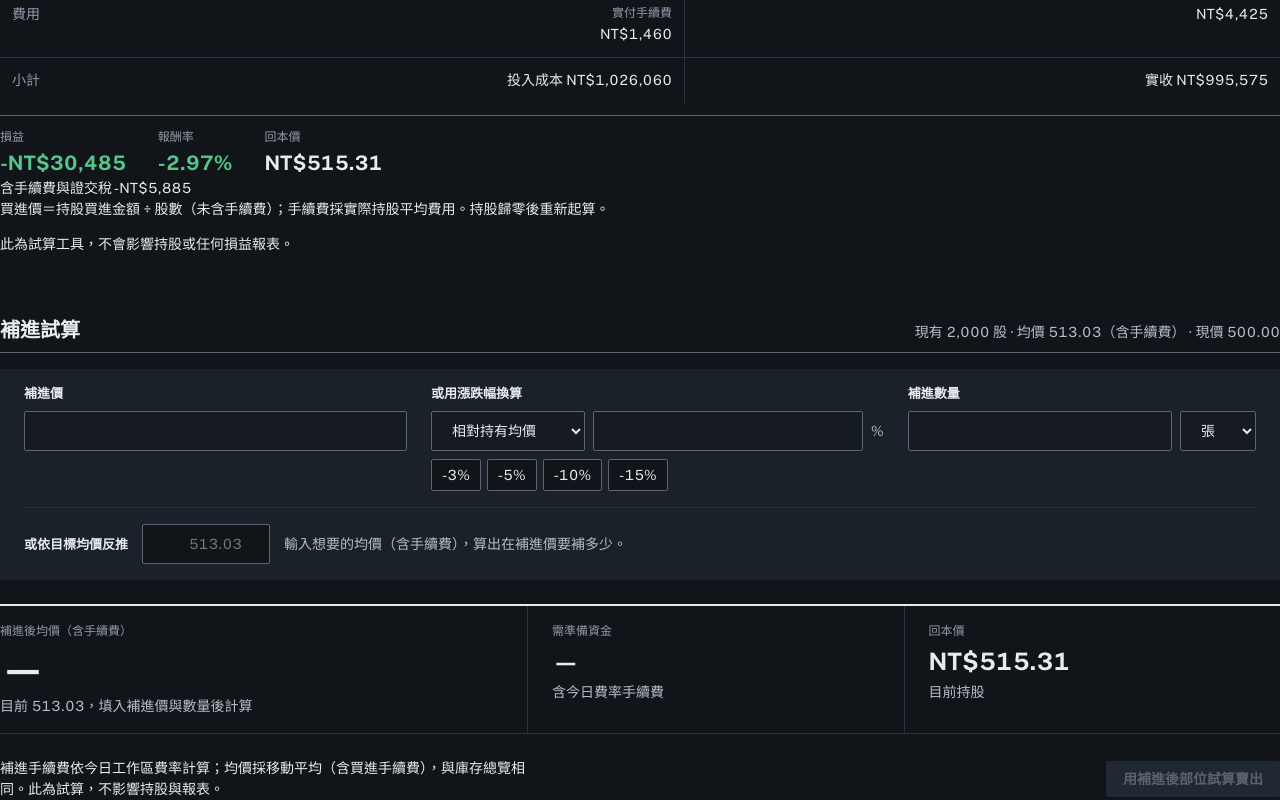
Scenario: WhatIfTab 賣出試算＋補進試算（Task 197） › 目標均價反推，按鈕帶入補進張數
(page scrolled)
Type "480" into the number field labelled "補進價".
click(216, 431); type("480")  # box [24, 411, 407, 451]
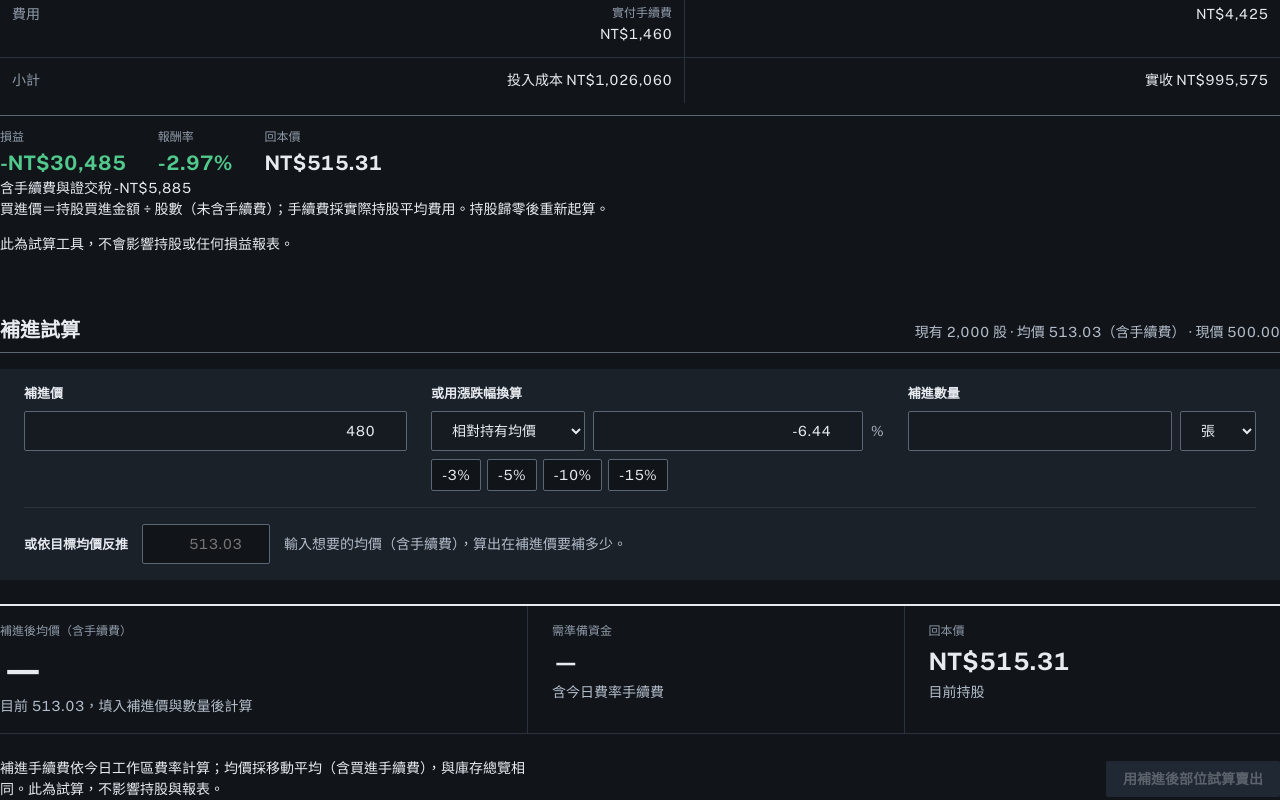
Type "495" into the number field labelled "或依目標均價反推".
click(206, 544); type("495")  # box [142, 524, 270, 564]
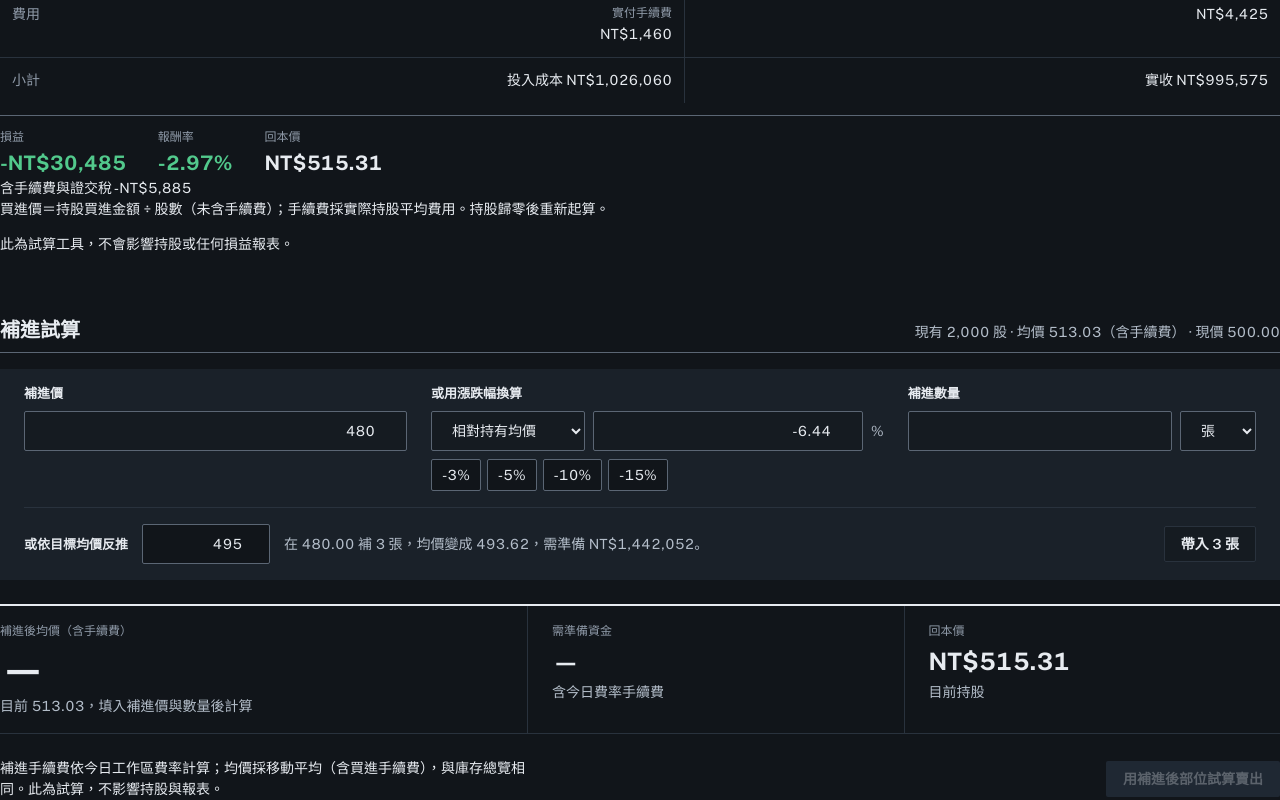
Result: the text with test id "addon-target-answer" shows "補 3 張" at [284, 536, 708, 552]
Click the button "帶入 3 張".
click(1210, 544)  # box [1164, 526, 1256, 562]
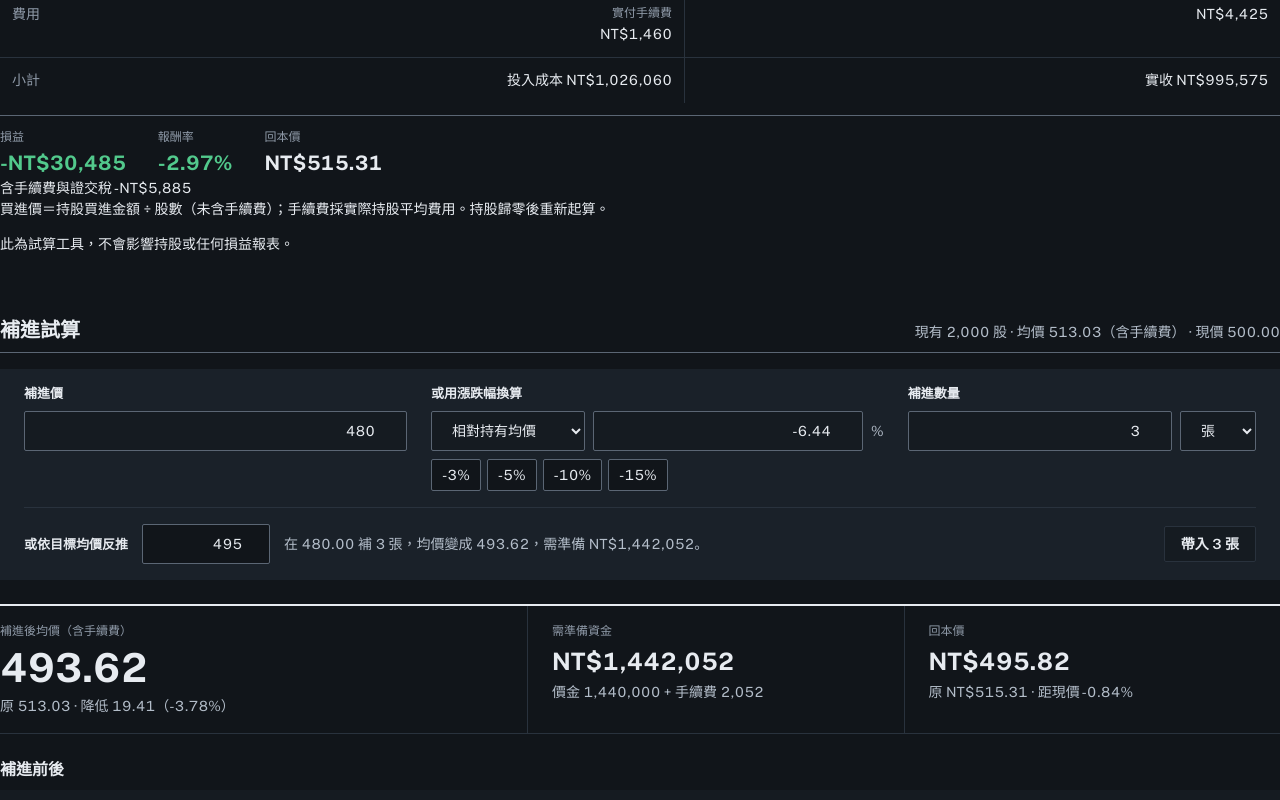
Result: the number field labelled "補進數量" holds "3" at [908, 411, 1172, 451]
